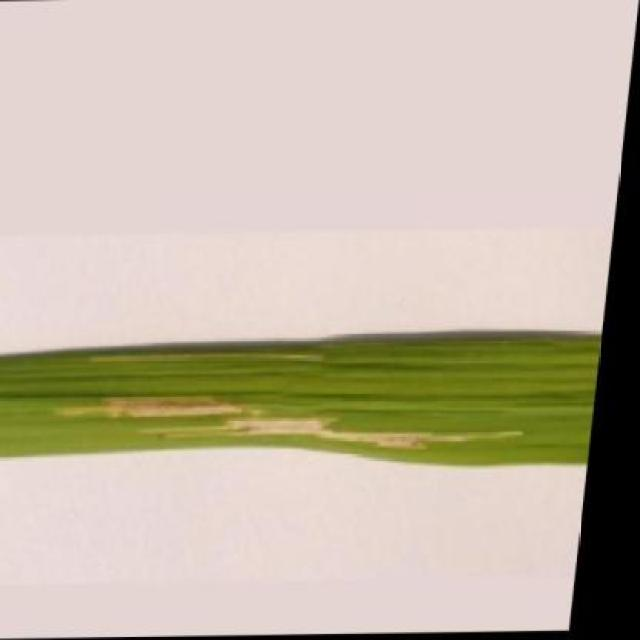Brown_Spot: (0, 329, 611, 476)
